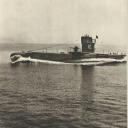submarine: (11, 33, 128, 65)
